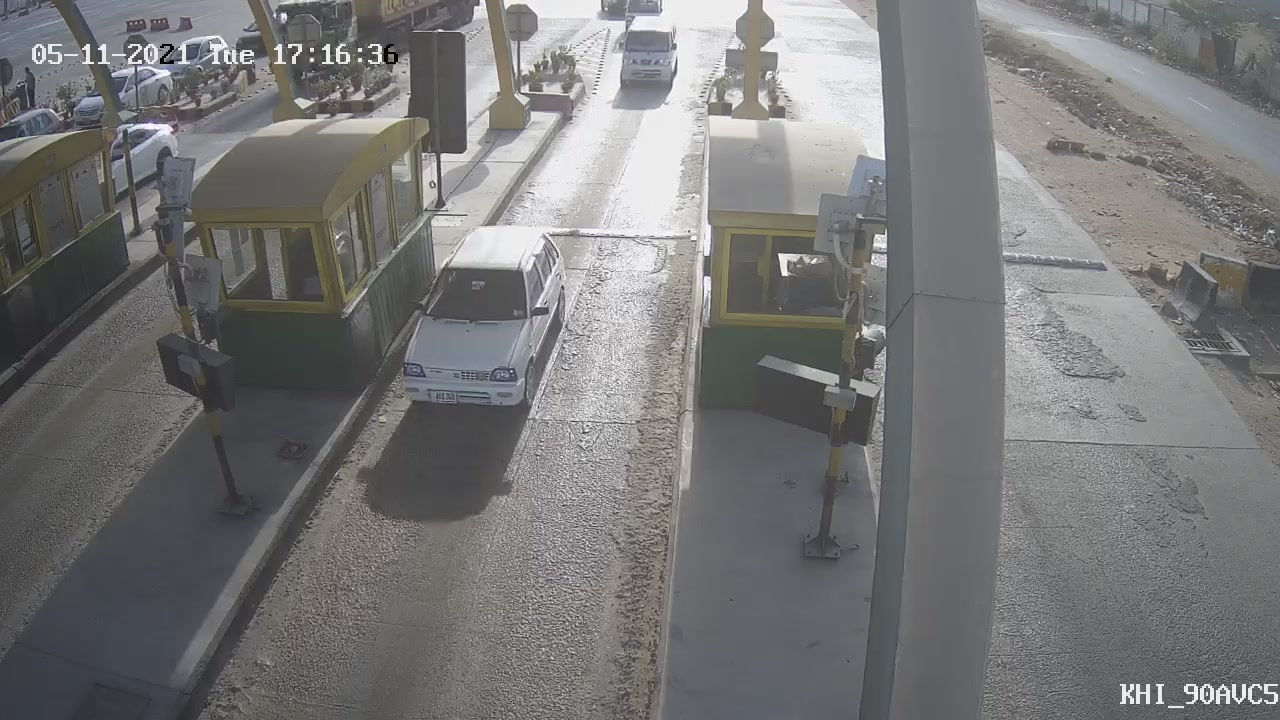F1: (366, 207, 581, 443)
